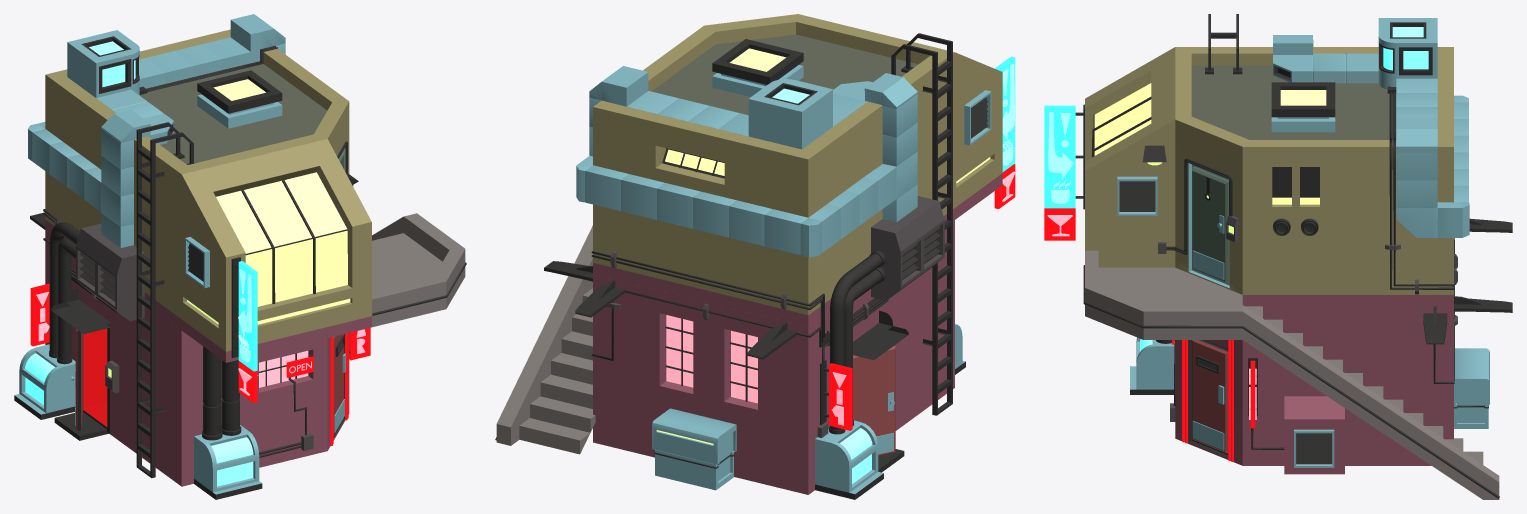
The model's file is building.glb.
3 views of the same model, side by side, from view 1: azimuth 30°, elevation 25°; view 2: azimuth 150°, elevation 25°; view 3: azimuth 270°, elevation 25° (orthographic). The views are drawn at different scales.
Parts seen in each view (by area): view 1: Building_Top_Base_0, Cube.017_14, Ventillation_All_Pipes_5, Cube.039_68, Cube_15, Window_Top_6, Cube.038_67, Cube.043_40, Cylinder.022_41, Cylinder.005_38, Cube.010_87, Cylinder.006_16 (+10 smaller); view 2: Building_Top_Base_0, Cube.017_14, Ventillation_All_Pipes_5, Stairs_4, Cube.039_68, Cube.040_69, Cube.038_67, Cube.043_40, Window_Top_6, Cube.037_36, Cylinder.022_41, Cube.052_102 (+11 smaller); view 3: Building_Top_Base_0, Cube.017_14, Ventillation_All_Pipes_5, Window_Top_6, Cube.003_17, Cube.040_69, Cube.010_87, Cube_15, Cube.061_48, Stairs_4, Cube.036_100, Ventillation_Out_Part_1_113 (+13 smaller).
Part boxes in pixels (x1,y1,x2,y2): Building_Top_Base_0: (45, 29, 465, 362); Cube.017_14: (45, 231, 349, 486); Ventillation_All_Pipes_5: (28, 14, 285, 248); Cube.039_68: (136, 122, 194, 478); Cube_15: (194, 425, 262, 499); Window_Top_6: (197, 70, 282, 128); Cube.038_67: (76, 223, 144, 321); Cube.043_40: (14, 344, 75, 419); Cylinder.022_41: (49, 222, 79, 360); Cylinder.005_38: (202, 346, 222, 440); Cube.010_87: (238, 261, 257, 371); Cylinder.006_16: (221, 360, 241, 435); Building_Top_Base_0: (496, 14, 1002, 445); Cube.017_14: (593, 220, 954, 494); Ventillation_All_Pipes_5: (576, 66, 917, 257); Stairs_4: (519, 288, 595, 454); Cube.039_68: (891, 33, 952, 415); Cube.040_69: (652, 408, 736, 490); Cube.038_67: (871, 196, 944, 300); Cube.043_40: (815, 420, 883, 499); Window_Top_6: (712, 39, 803, 96); Cube.037_36: (853, 345, 895, 456); Cylinder.022_41: (830, 253, 881, 430); Cube.052_102: (829, 363, 852, 430); Building_Top_Base_0: (1085, 47, 1499, 499); Cube.017_14: (1175, 306, 1453, 465); Ventillation_All_Pipes_5: (1273, 18, 1469, 237); Window_Top_6: (1271, 82, 1335, 132); Cube.003_17: (1284, 396, 1344, 474); Cube.040_69: (1454, 348, 1489, 428); Cube.010_87: (1044, 105, 1075, 208); Cube_15: (1130, 337, 1174, 394); Cube.061_48: (1083, 265, 1499, 498); Stairs_4: (1245, 306, 1483, 464); Cube.036_100: (1272, 167, 1319, 197); Ventillation_Out_Part_1_113: (1119, 181, 1155, 211).
Size of the model in its own units: 6.15 by 6.7 by 7.96.
